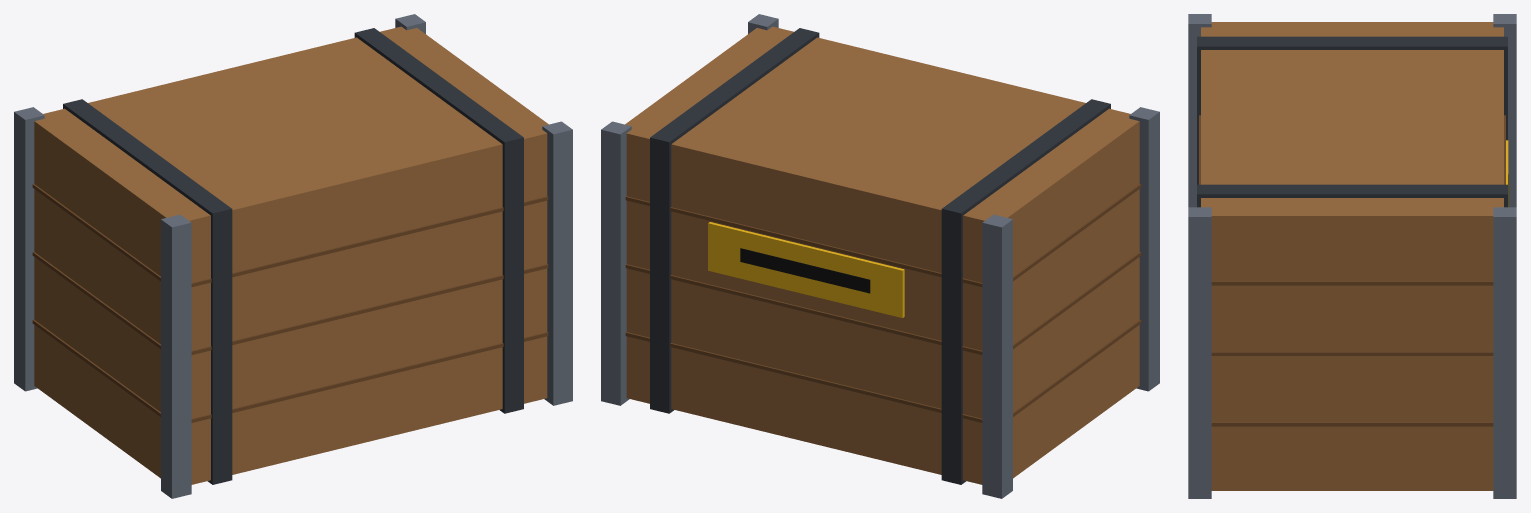
The model's file is prop_crate_heavy.glb.
The picture shows the model from 3 angles, left to right: view 1: azimuth 30°, elevation 25°; view 2: azimuth 150°, elevation 25°; view 3: azimuth 270°, elevation 25°; orthographic projection. The views are drawn at different scales.
Parts seen in each view (by area): view 1: prop_crate_heavy; view 2: prop_crate_heavy; view 3: prop_crate_heavy.
Boxes of the visible parts, bbox=[...] form: prop_crate_heavy: bbox=[14, 14, 572, 498]; prop_crate_heavy: bbox=[601, 14, 1159, 498]; prop_crate_heavy: bbox=[1188, 14, 1516, 498].
Size of the model in its own units: 1.24 by 0.8 by 0.844.
1 material, 1 textured.
